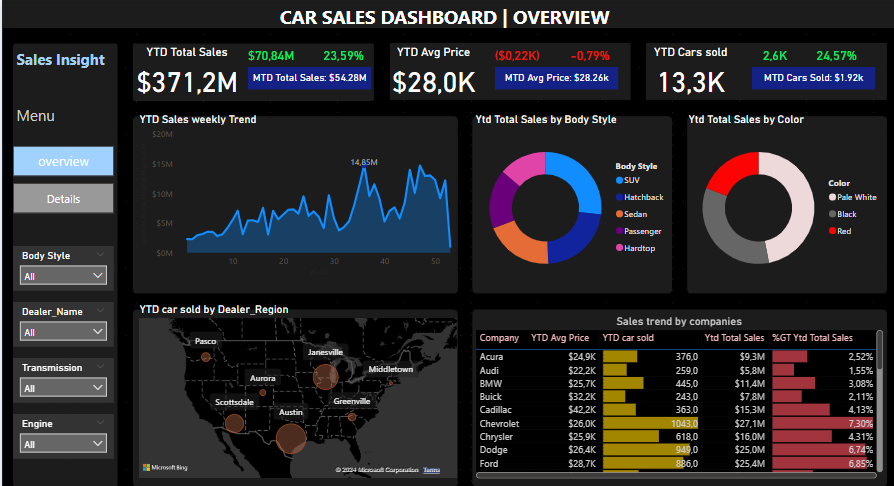

The dashboard page shown, as its layout file describes it:
{"tool":"powerbi","page":{"name":"overview","canvas":[1280,720],"ordinal":0},"visuals":[{"type":"card","title":"YTD Total Sales","fields":{"Values":["car_data.Ytd Total Sales"]},"box":[144,64,240,80],"z":0},{"type":"card","fields":{"Values":["car_data.Sales Difference"]},"box":[304,64,160,32],"z":1000},{"type":"card","fields":{"Values":["car_data.YoY sales growth"]},"box":[400,64,176,32],"z":2000},{"type":"card","fields":{"Values":["car_data.MTD KPI"]},"box":[352,96,176,32],"z":3000},{"type":"card","title":"YTD Avg Price","fields":{"Values":["car_data.YTD Avg Price"]},"box":[528,64,176,80],"z":4000},{"type":"card","fields":{"Values":["car_data.Avg price diff"]},"box":[656,64,160,32],"z":5000},{"type":"card","fields":{"Values":["car_data.YoY Avg Price Growth"]},"box":[752,64,176,32],"z":6000},{"type":"card","fields":{"Values":["car_data.MTD avg price KPI"]},"box":[704,96,176,32],"z":7000},{"type":"card","title":"YTD Cars sold","fields":{"Values":["car_data.YTD car sold"]},"box":[896,64,176,80],"z":8000},{"type":"card","fields":{"Values":["car_data.Car sold diff"]},"box":[1024,64,160,32],"z":9000},{"type":"card","fields":{"Values":["car_data.YoY car sold growth"]},"box":[1104,64,176,32],"z":10000},{"type":"card","fields":{"Values":["car_data.MTD Cars sold KPI"]},"box":[1072,96,176,32],"z":11000},{"type":"areaChart","title":"YTD Sales weekly Trend","fields":{"Category":["Calendar Table.Week"],"Y":["Sum(car_data.Price ($))","car_data.Max point"]},"box":[192,160,464,240],"z":12000},{"type":"donutChart","fields":{"Category":["car_data.Body Style"],"Y":["car_data.Ytd Total Sales"]},"box":[672,160,288,256],"z":13000},{"type":"donutChart","fields":{"Category":["car_data.Color","car_data.Body Style"],"Y":["car_data.Ytd Total Sales"]},"box":[976,160,288,256],"z":14000},{"type":"map","fields":{"Category":["car_data.Dealer_Region"],"Size":["car_data.YTD car sold"]},"box":[192,432,464,256],"z":15000},{"type":"tableEx","title":"Sales trend by companies","fields":{"Values":["car_data.Company","car_data.YTD Avg Price","car_data.YTD car sold","car_data.Ytd Total Sales1","car_data.Ytd Total Sales"]},"box":[672,448,592,240],"z":16000},{"type":"textbox","box":[0,0,1264,48],"z":17000},{"type":"slicer","fields":{"Values":["car_data.Body Style"]},"box":[16,352,144,64],"z":18000},{"type":"slicer","fields":{"Values":["car_data.Dealer_Name"]},"box":[16,432,144,64],"z":19000},{"type":"slicer","fields":{"Values":["car_data.Transmission"]},"box":[16,512,144,64],"z":20000},{"type":"slicer","fields":{"Values":["car_data.Engine"]},"box":[16,592,144,64],"z":21000},{"type":"textbox","box":[16,64,144,96],"z":22000},{"type":"textbox","box":[16,144,112,64],"z":23000},{"type":"pageNavigator","box":[16,208,144,96],"z":24000}]}

Visuals, with their boxes on the page's 1280x720 design canvas (x1, y1, x2, y2). These are canvas units, not pixel positions in the 894x486 screenshot, which may show the page scaled, cropped or inside an application window:
"YTD Total Sales" card: box(144, 64, 384, 144)
card - car_data.Sales Difference: box(304, 64, 464, 96)
card - car_data.YoY sales growth: box(400, 64, 576, 96)
card - car_data.MTD KPI: box(352, 96, 528, 128)
"YTD Avg Price" card: box(528, 64, 704, 144)
card - car_data.Avg price diff: box(656, 64, 816, 96)
card - car_data.YoY Avg Price Growth: box(752, 64, 928, 96)
card - car_data.MTD avg price KPI: box(704, 96, 880, 128)
"YTD Cars sold" card: box(896, 64, 1072, 144)
card - car_data.Car sold diff: box(1024, 64, 1184, 96)
card - car_data.YoY car sold growth: box(1104, 64, 1280, 96)
card - car_data.MTD Cars sold KPI: box(1072, 96, 1248, 128)
"YTD Sales weekly Trend" areaChart: box(192, 160, 656, 400)
donutChart - car_data.Body Style x car_data.Ytd Total Sales: box(672, 160, 960, 416)
donutChart - car_data.Color x car_data.Body Style: box(976, 160, 1264, 416)
map - car_data.Dealer_Region x car_data.YTD car sold: box(192, 432, 656, 688)
"Sales trend by companies" tableEx: box(672, 448, 1264, 688)
textbox: box(0, 0, 1264, 48)
slicer - car_data.Body Style: box(16, 352, 160, 416)
slicer - car_data.Dealer_Name: box(16, 432, 160, 496)
slicer - car_data.Transmission: box(16, 512, 160, 576)
slicer - car_data.Engine: box(16, 592, 160, 656)
textbox: box(16, 64, 160, 160)
textbox: box(16, 144, 128, 208)
pageNavigator: box(16, 208, 160, 304)
